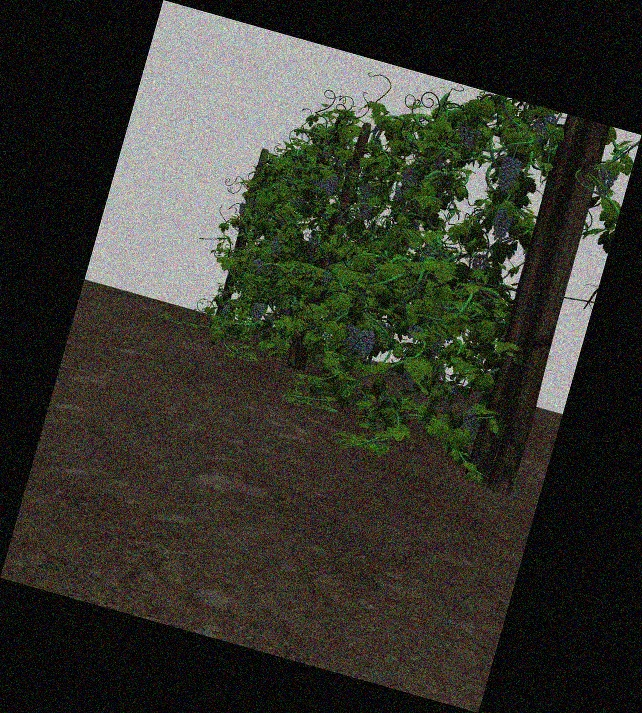grape: (498, 156, 520, 194), (493, 206, 513, 241), (597, 163, 616, 198), (534, 115, 555, 144), (342, 324, 359, 352), (357, 331, 374, 358), (458, 126, 474, 151), (401, 170, 416, 191), (324, 175, 338, 196), (250, 302, 264, 321), (359, 182, 373, 200), (270, 238, 282, 257), (361, 202, 373, 219), (221, 305, 230, 317), (238, 202, 246, 215)
